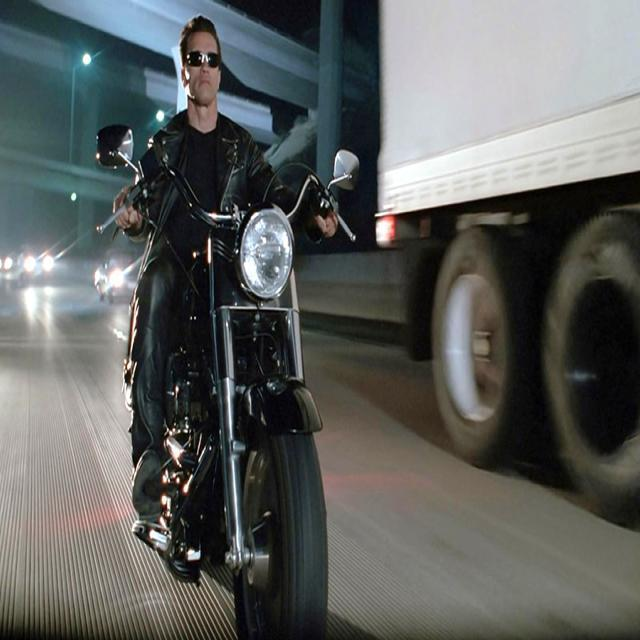bike: (81, 118, 376, 637)
no-helmet: (170, 13, 239, 121)
rider: (106, 14, 341, 534)
